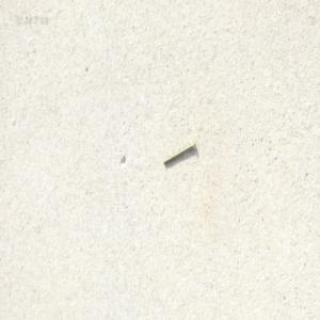Bolttrack_idkeyframe: (161, 137, 195, 165)
